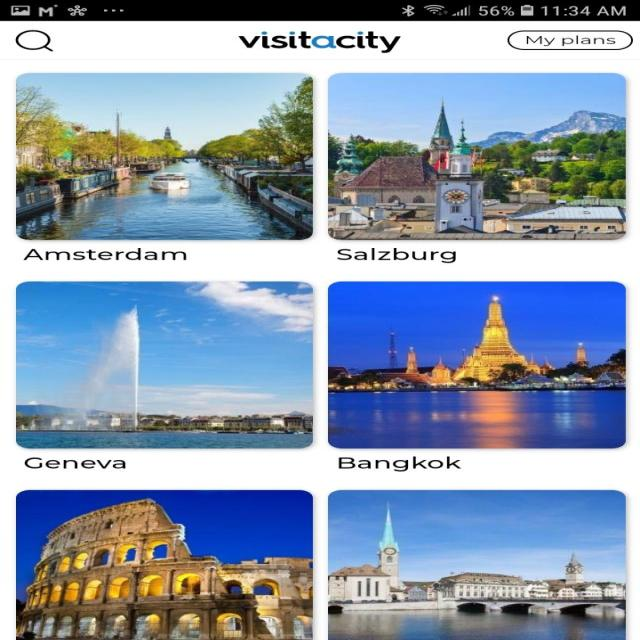Icon: (14, 29, 54, 52)
Image: (327, 281, 626, 448), (326, 73, 625, 240), (15, 281, 313, 448), (16, 73, 313, 240), (326, 490, 625, 640), (15, 490, 313, 640), (237, 31, 401, 53)
Text: (23, 247, 187, 260), (338, 456, 461, 471), (336, 248, 456, 263), (24, 456, 126, 468)
TextButton: (507, 30, 633, 50)
